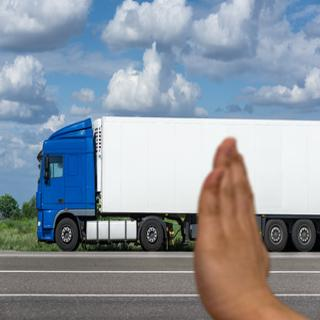RIGHT: (188, 133, 275, 311)
